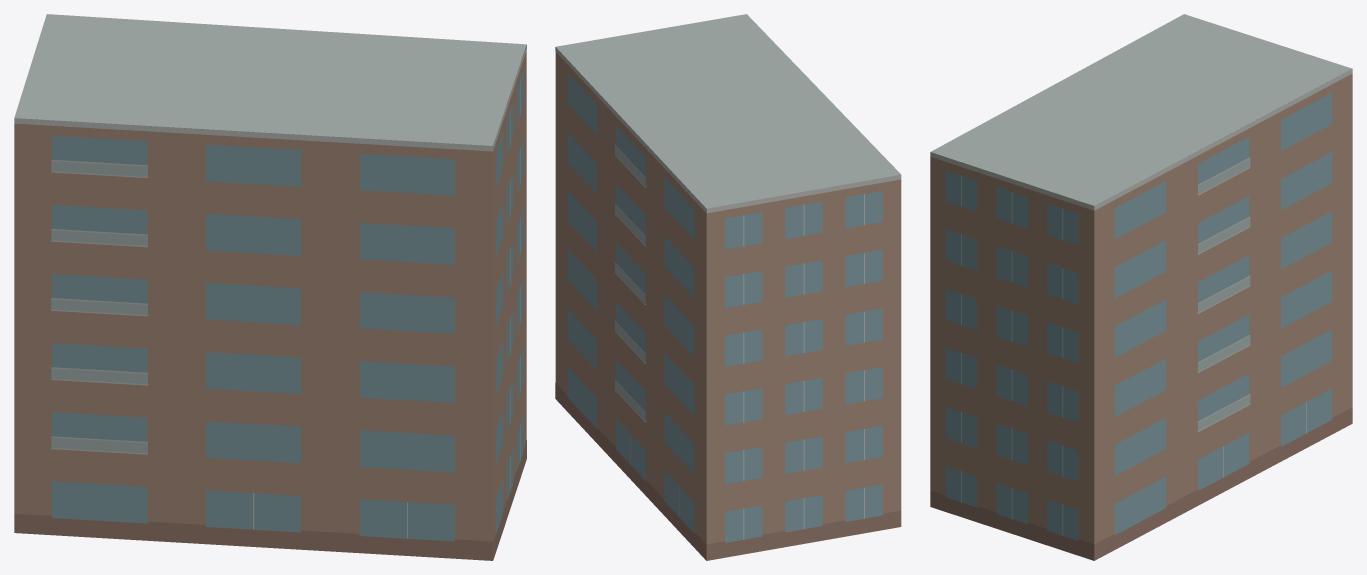
Rendered from survey-upis-32939105.glb.
3 renders of one model, left to right at view 1: azimuth 30°, elevation 25°; view 2: azimuth 150°, elevation 25°; view 3: azimuth 270°, elevation 25°, orthographic. The views are drawn at different scales.
Visible parts, largest first — view 1: survey-upis-32939105.tmp; view 2: survey-upis-32939105.tmp; view 3: survey-upis-32939105.tmp.
Part boxes in pixels (<box>): survey-upis-32939105.tmp: <box>14,14,526,560</box>; survey-upis-32939105.tmp: <box>555,14,901,560</box>; survey-upis-32939105.tmp: <box>930,14,1352,560</box>.
Bounding box in the file's own units: 21.24 × 18.3 × 19.74.
